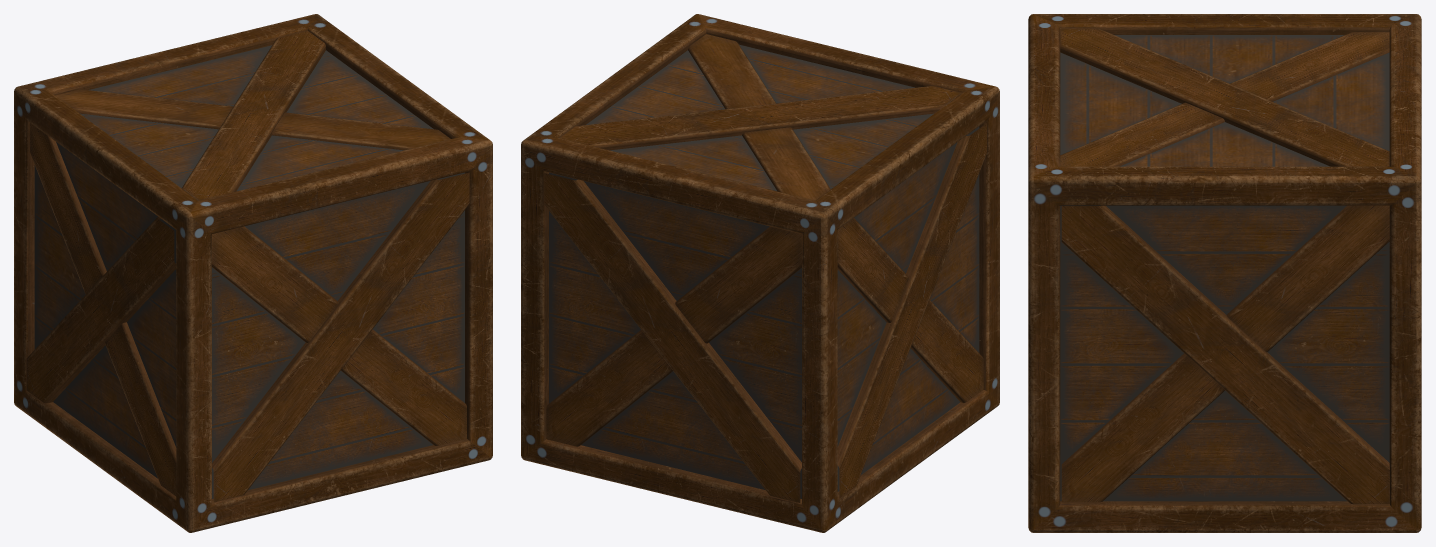
Rendered from box__wooden__crash_8_mb.glb.
The picture shows the model from 3 angles, left to right: view 1: azimuth 30°, elevation 25°; view 2: azimuth 150°, elevation 25°; view 3: azimuth 270°, elevation 25°; orthographic projection. The views are drawn at different scales.
Visible parts, largest first — view 1: Symmetry_2; view 2: Symmetry_2; view 3: Symmetry_2.
Boxes of the visible parts, x1,y1,x2,y2 form: Symmetry_2: (14, 14, 492, 532); Symmetry_2: (521, 14, 999, 532); Symmetry_2: (1028, 14, 1421, 532).
Bounding box in the file's own units: 2 × 2 × 2.
1 material, 1 textured.
